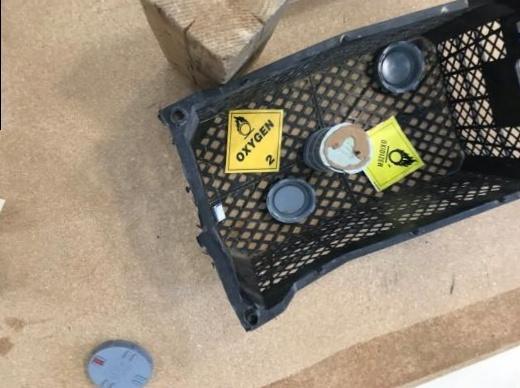oxidizer: (353, 117, 428, 195), (224, 111, 285, 173)
